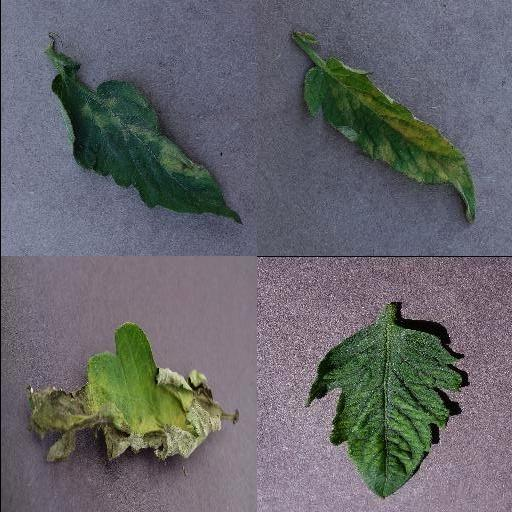Late Blight: (24, 323, 224, 465)
Leaf Mold: (51, 69, 243, 225), (303, 57, 475, 222)
Mosaic Virus: (304, 318, 464, 500)
